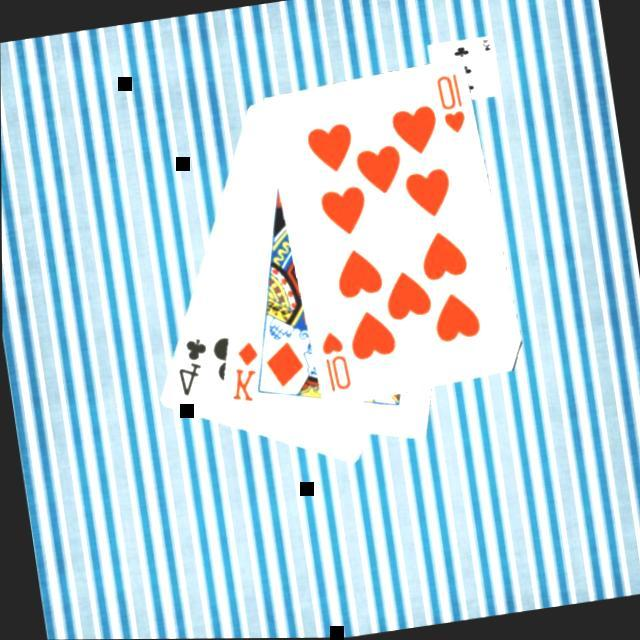10H: (431, 68, 470, 138), (315, 325, 354, 394)
4C: (169, 331, 215, 399)
KD: (220, 335, 267, 406)
